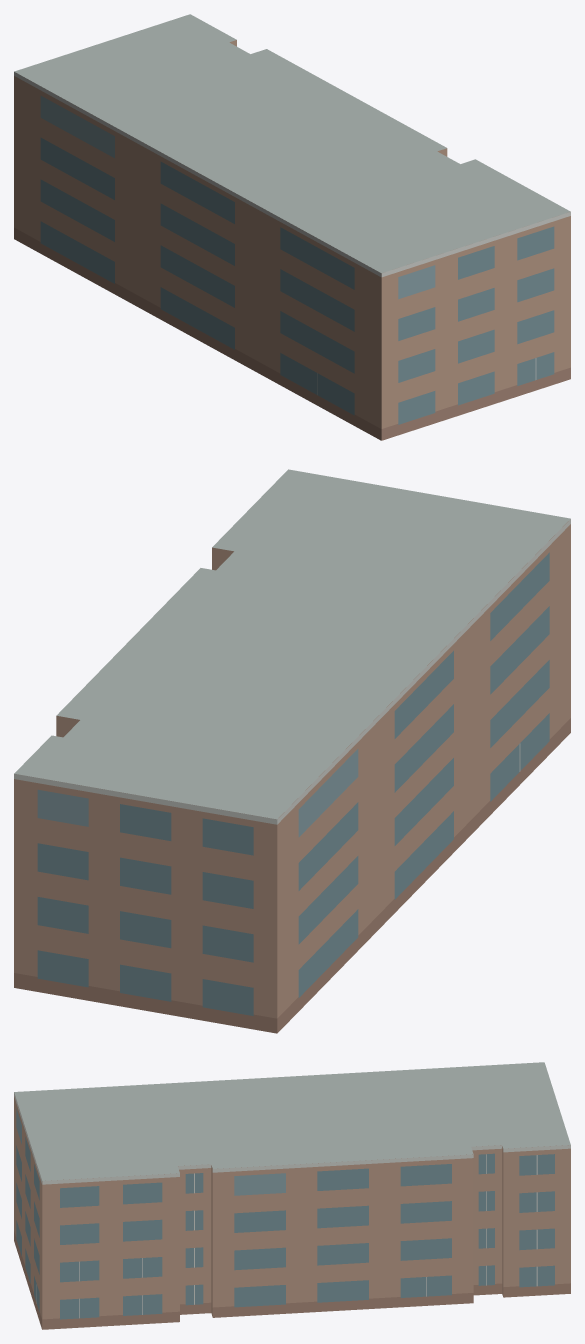
Rendered from survey-upis-32826977.glb.
3 renders of one model, top to bottom at view 1: azimuth 30°, elevation 25°; view 2: azimuth 150°, elevation 25°; view 3: azimuth 270°, elevation 25°, orthographic. The views are drawn at different scales.
Visible parts, largest first — view 1: survey-upis-32826977.tmp; view 2: survey-upis-32826977.tmp; view 3: survey-upis-32826977.tmp.
Boxes of the visible parts, x1,y1,x2,y2 form: survey-upis-32826977.tmp: (14, 14, 570, 440); survey-upis-32826977.tmp: (14, 469, 570, 1033); survey-upis-32826977.tmp: (14, 1062, 570, 1329).
Bounding box in the file's own units: 16.79 × 9.8 × 33.24.
